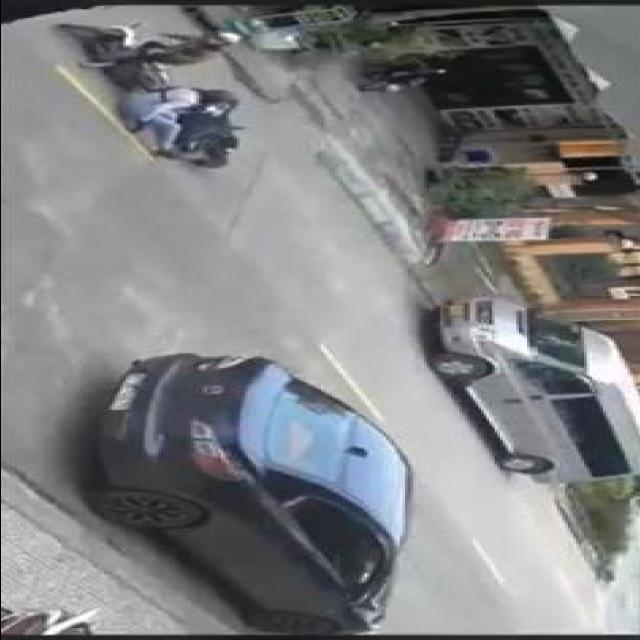accident: (41, 16, 274, 172)
